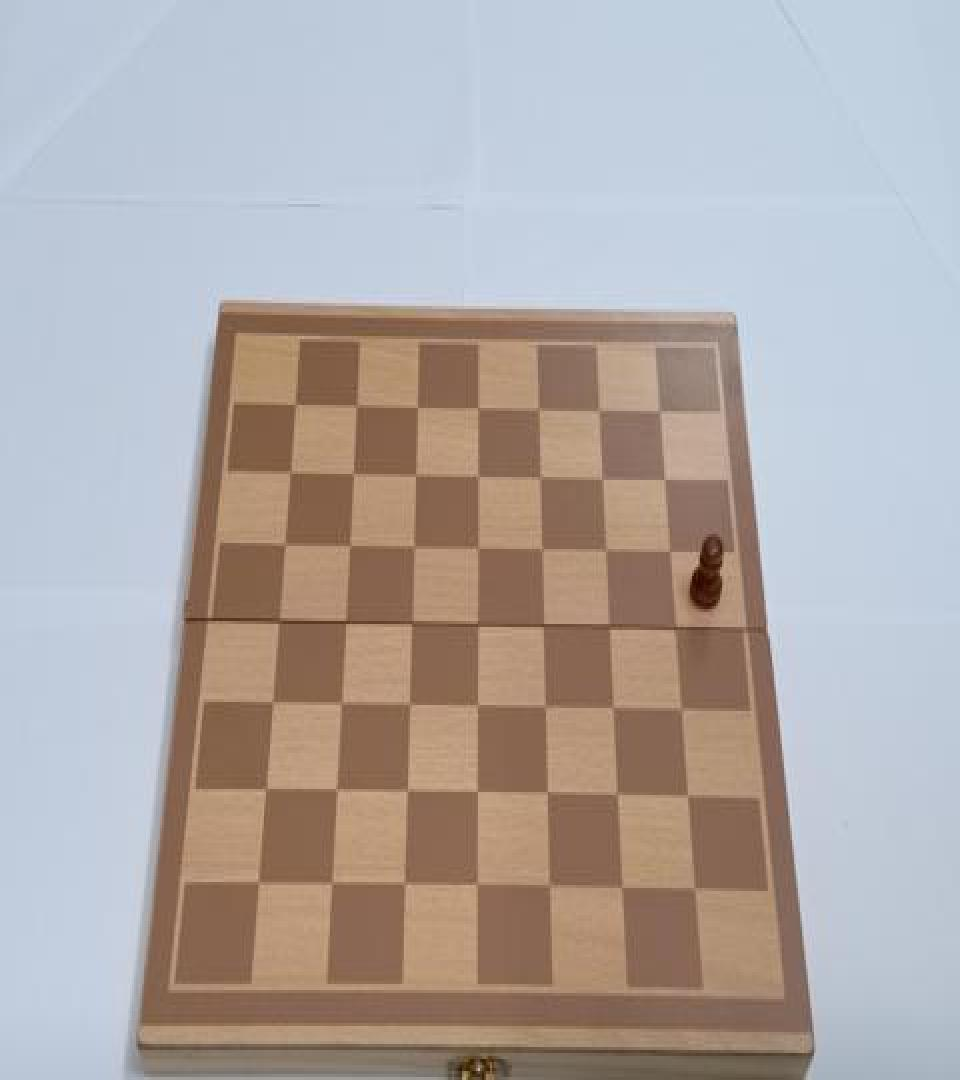xcorner: (288, 394, 306, 422), (400, 694, 418, 722), (470, 466, 488, 494), (469, 694, 487, 722), (533, 466, 551, 494), (592, 400, 610, 428), (653, 400, 671, 428), (282, 462, 300, 489), (276, 534, 294, 561), (270, 610, 288, 637), (256, 778, 274, 805), (249, 870, 267, 897), (349, 396, 367, 423), (336, 612, 354, 639), (332, 693, 350, 720), (327, 778, 345, 805), (409, 396, 427, 423), (407, 465, 425, 492), (405, 537, 423, 564), (398, 780, 416, 807), (470, 397, 488, 424), (470, 537, 488, 564), (468, 873, 486, 900), (531, 399, 549, 426), (534, 538, 552, 565), (535, 615, 553, 642), (537, 696, 555, 723), (541, 874, 559, 901), (595, 468, 613, 495), (598, 540, 616, 567), (602, 617, 620, 644), (609, 783, 627, 810), (613, 874, 631, 901), (657, 470, 675, 497), (668, 617, 686, 644), (680, 785, 698, 812), (686, 876, 704, 903), (263, 692, 281, 718), (345, 464, 363, 490), (341, 536, 359, 562), (322, 872, 340, 898), (403, 614, 421, 640), (395, 872, 413, 898), (469, 614, 487, 640), (468, 782, 486, 808), (539, 782, 557, 808), (605, 698, 623, 724), (663, 542, 681, 568), (674, 698, 692, 724)
